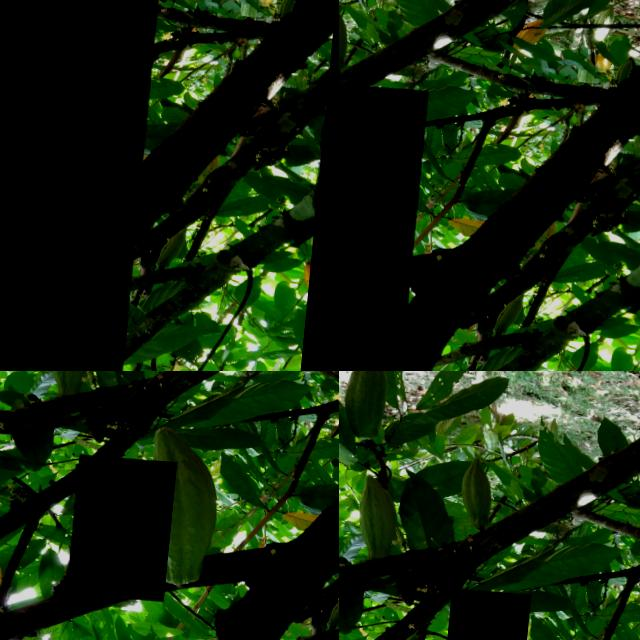Fitoftora: (3, 451, 14, 469)
Monilia: (339, 63, 432, 371)
Sana: (0, 0, 167, 371), (75, 451, 183, 596), (445, 584, 536, 640), (365, 476, 408, 558), (345, 371, 389, 437), (464, 462, 503, 519), (229, 487, 253, 521), (32, 432, 49, 462), (301, 462, 318, 487), (293, 480, 307, 499), (253, 443, 267, 461), (138, 402, 149, 418), (29, 475, 38, 492), (186, 420, 196, 435), (247, 448, 255, 461)
